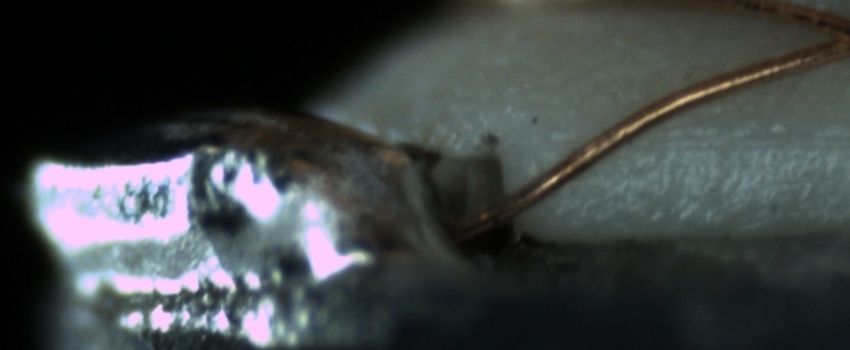CL: (802, 6, 850, 65)
DL: (613, 107, 847, 174)
